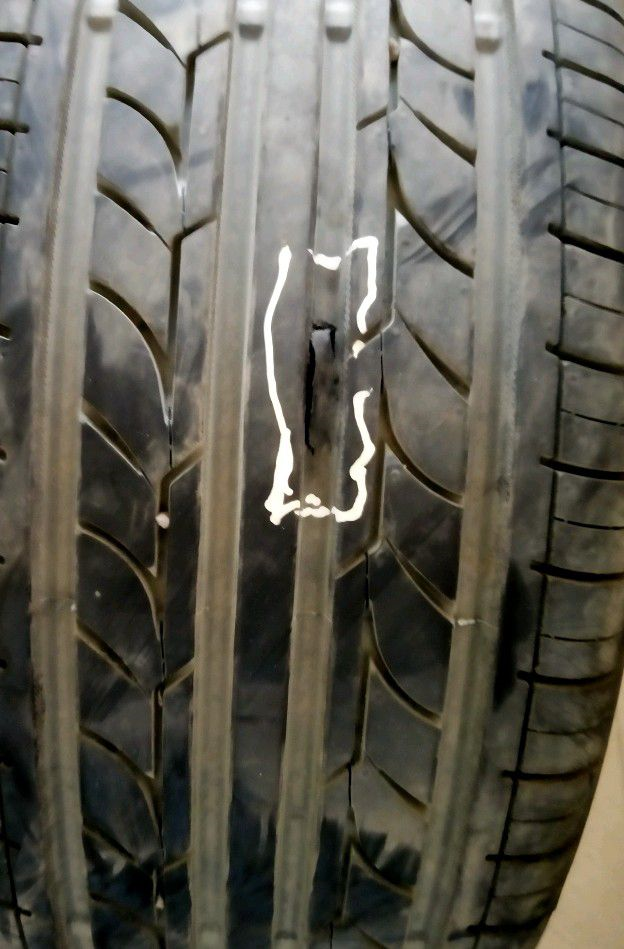tr: (300, 316, 354, 473)
